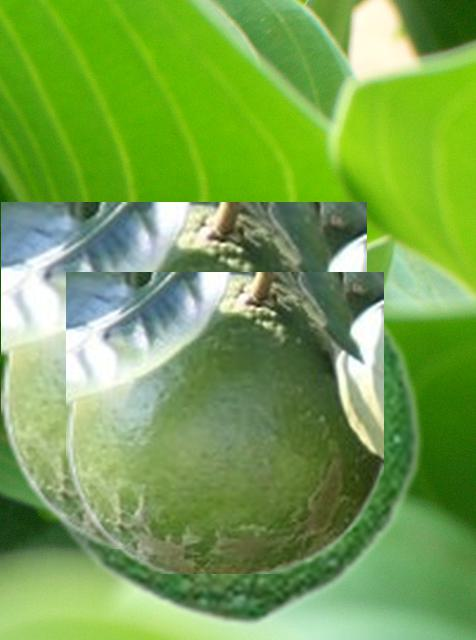dalandan: (1, 202, 365, 547), (36, 310, 422, 627), (66, 272, 382, 572)
